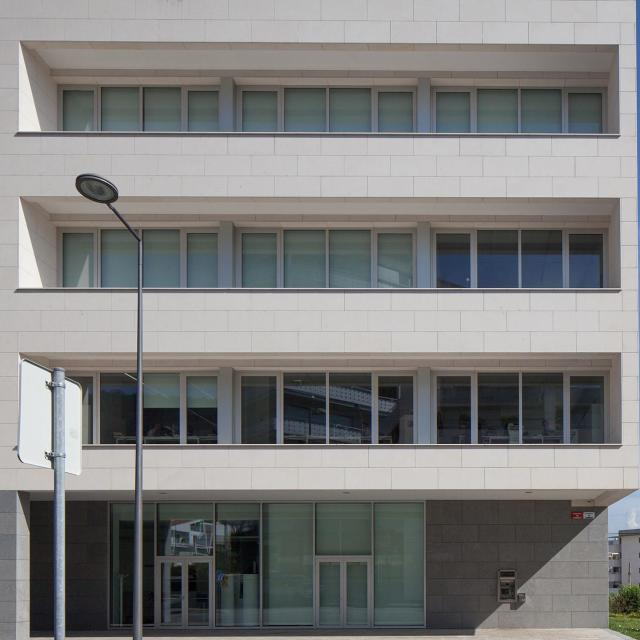door: (152, 556, 216, 632), (313, 555, 375, 630)
wall: (0, 0, 639, 639)
windows: (109, 501, 425, 631), (231, 368, 416, 444), (430, 371, 611, 447), (237, 227, 416, 290), (433, 226, 609, 286), (81, 370, 220, 444), (56, 227, 220, 287), (236, 83, 418, 134), (434, 86, 608, 134), (58, 85, 218, 132)
